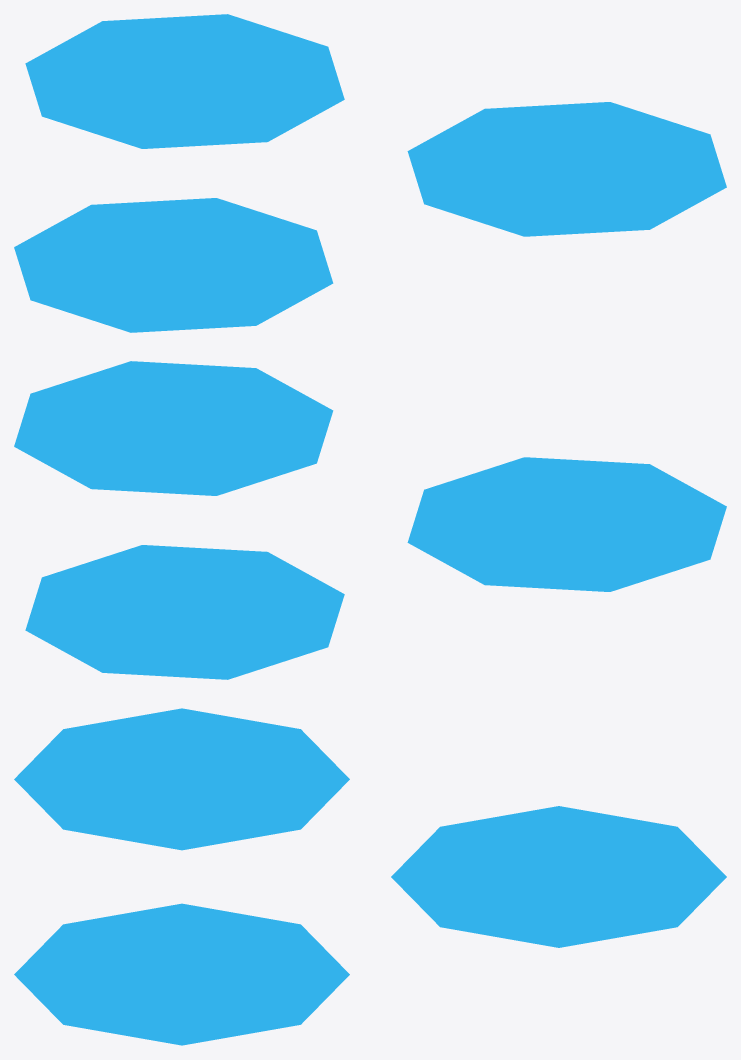
Rendered from hieroglyph_006.glb.
The picture shows the model from 3 angles, top to bottom: view 1: azimuth 30°, elevation 25°; view 2: azimuth 150°, elevation 25°; view 3: azimuth 270°, elevation 25°; orthographic projection.
Parts seen in each view (by area): view 1: hieroglyph_006; view 2: hieroglyph_006; view 3: hieroglyph_006.
Boxes of the visible parts, box(x1,y1,x2,y2) form: hieroglyph_006: box(14, 14, 726, 332); hieroglyph_006: box(14, 361, 726, 679); hieroglyph_006: box(14, 708, 726, 1045).
Bounding box in the file's own units: 0.4597 × 0 × 0.4108.
Materials: 1 (1 with a texture image).
